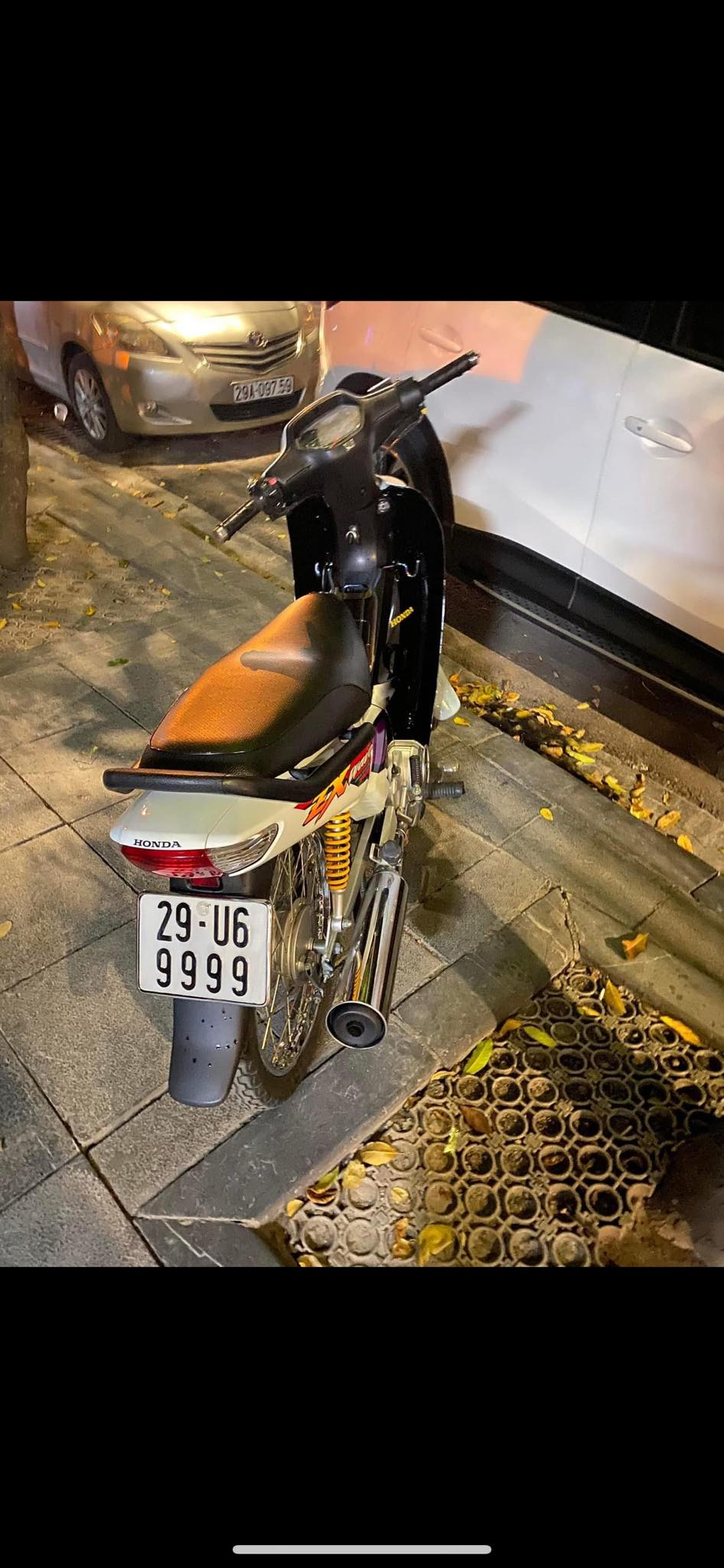bien_so: (132, 892, 284, 1015)
